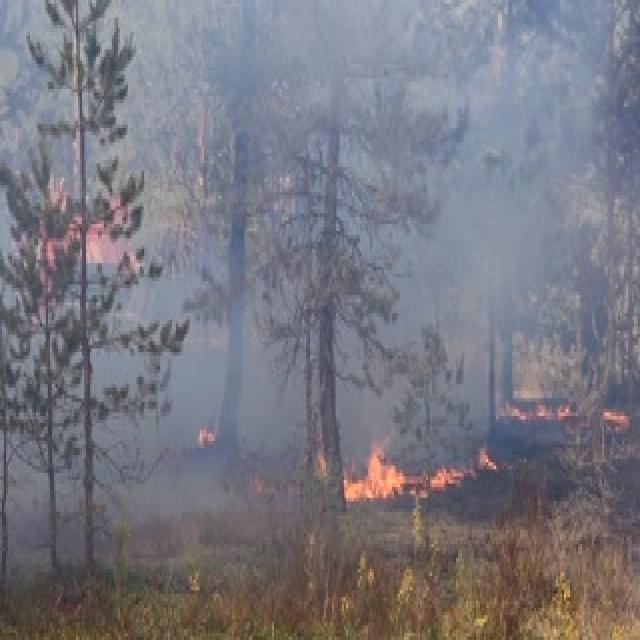Fire: (339, 446, 507, 506), (24, 178, 110, 282), (502, 391, 638, 436), (184, 422, 220, 448)
Smoke: (154, 10, 640, 377)
